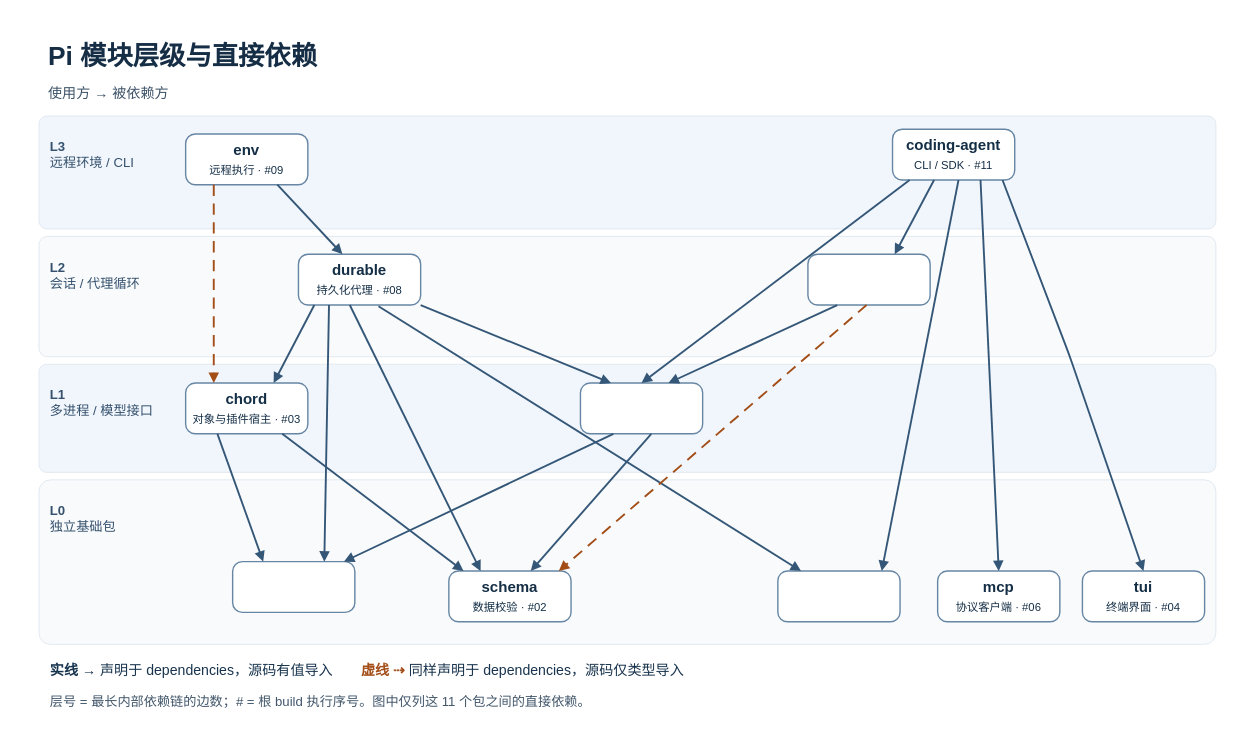
The diagram is 1254 pixels wide and 744 high, and some of its shapes have lost their labels. The shapes that lost their labels are listed below. From the top down, each one's box as (x1, y1, x2, y2) in pixels, then its label:
(807, 253, 930, 305): agent 代理循环 · #10
(579, 382, 703, 434): ai 模型与供应商 · #07
(232, 561, 355, 613): telemetry 追踪与指标 · #01
(777, 570, 900, 622): codemode 脚本沙箱 · #05
